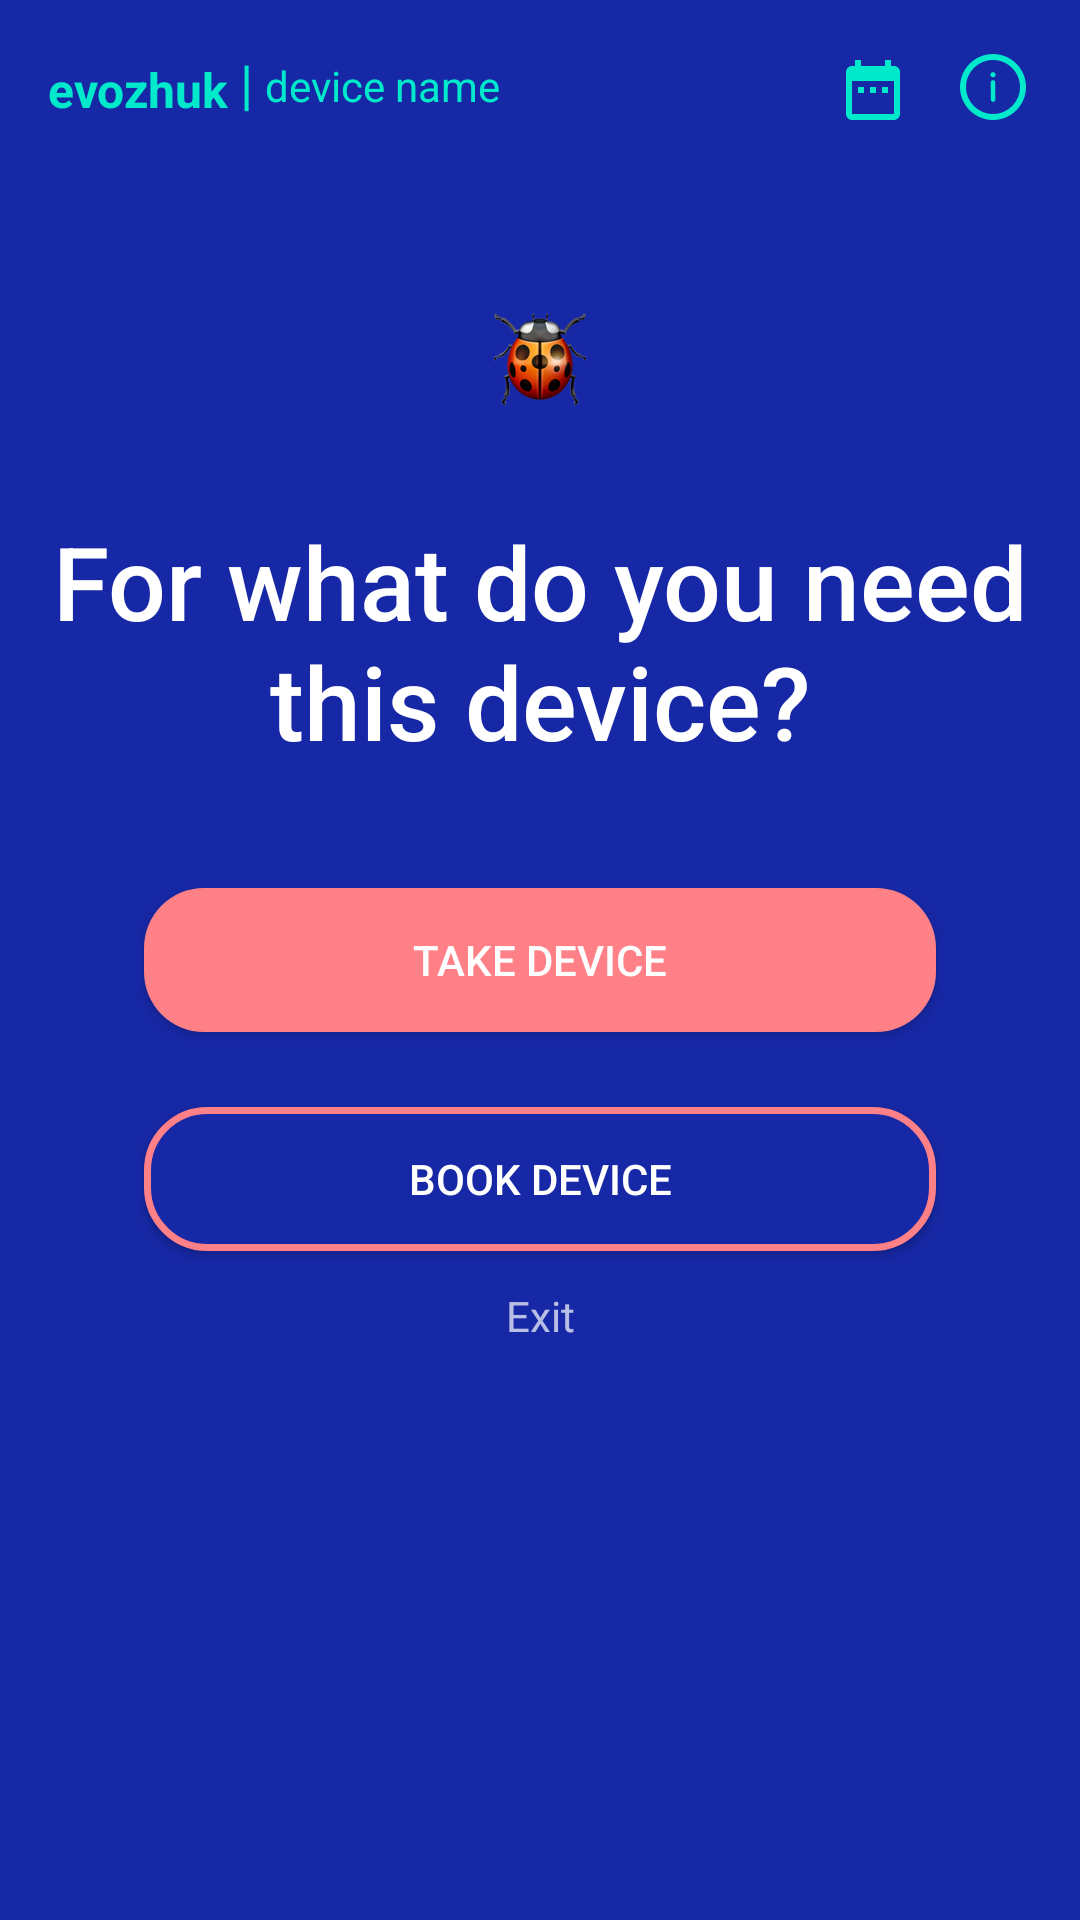

Icon click points for this 1080x1920 phone screenshot, format [x,y]:
bug: [540,359]
date range: [873,90]
info: [993,87]
